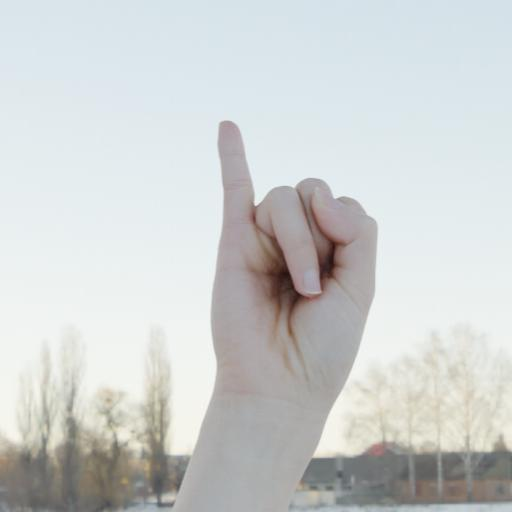I: (172, 104, 388, 512)
